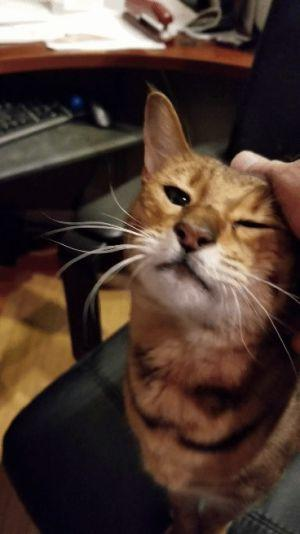bengal: (110, 72, 300, 319)
